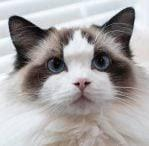ragdoll: (8, 4, 141, 134)
